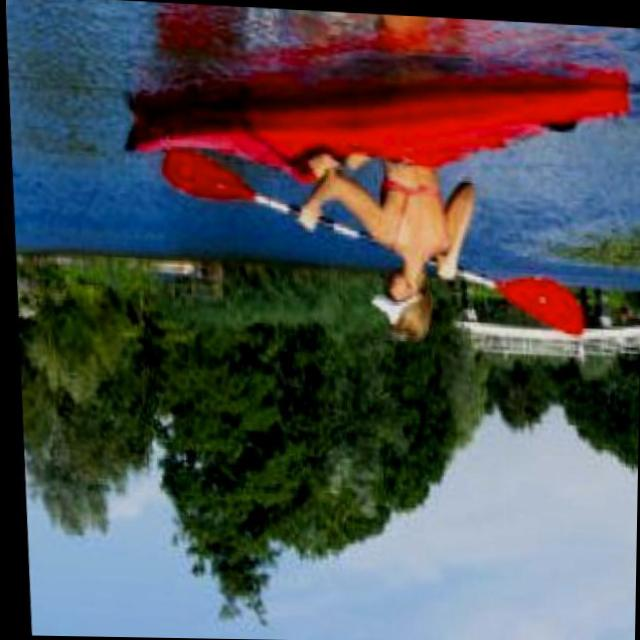kayak: (125, 72, 628, 175)
